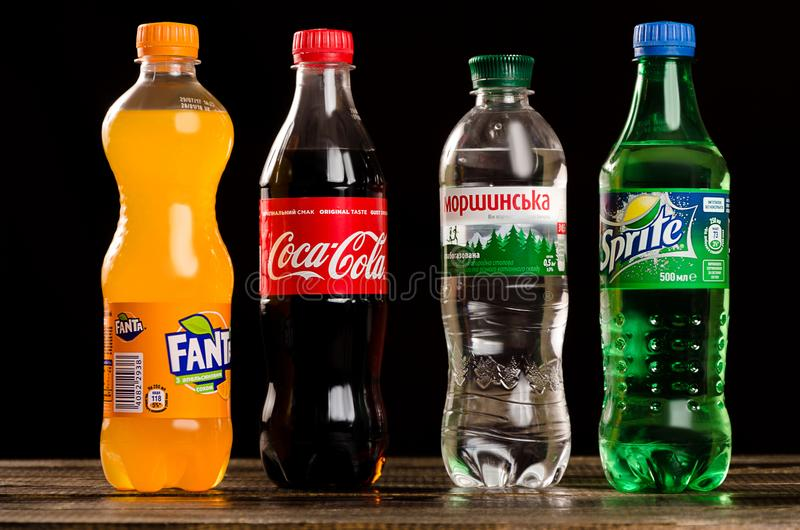Coca-Cola: (256, 35, 384, 498)
Fanta: (99, 33, 227, 496)
Sprite: (602, 36, 730, 500)
